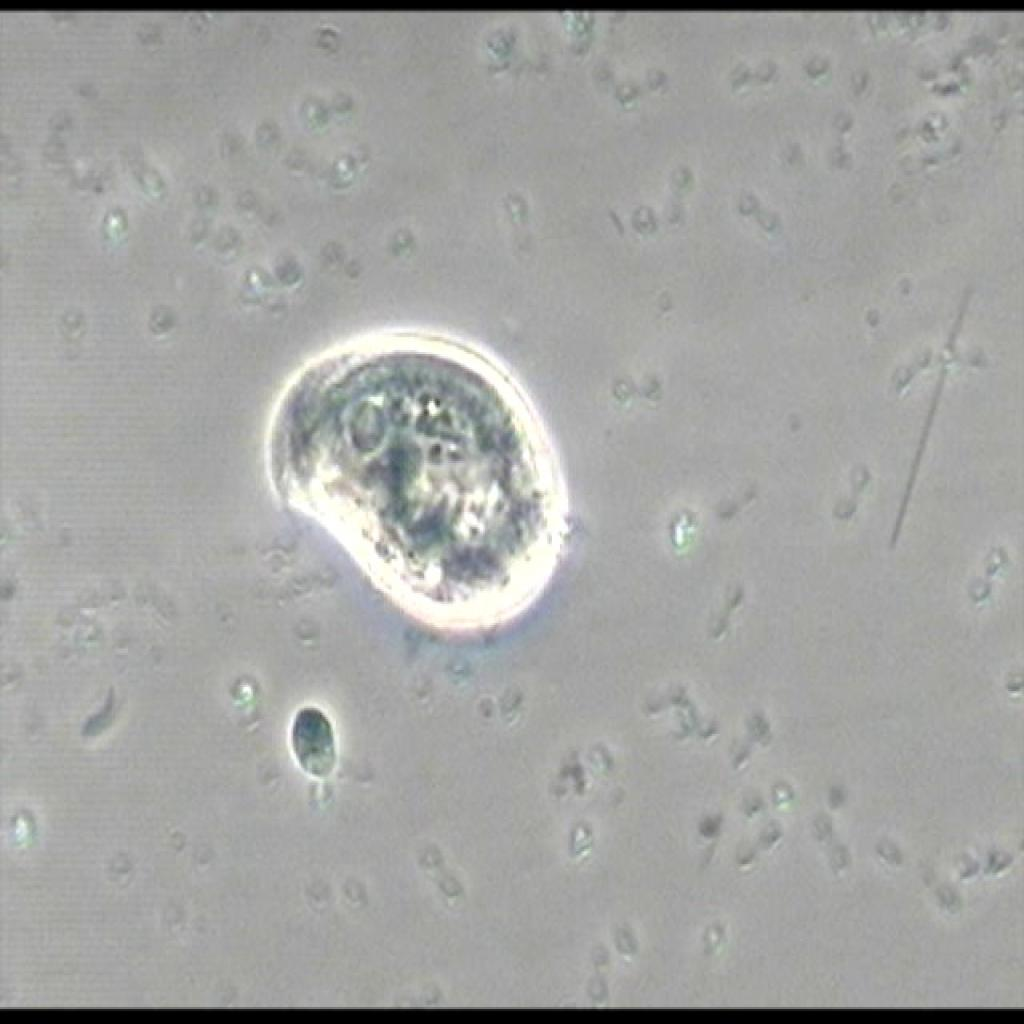Chilodonella: (255, 312, 596, 666)
